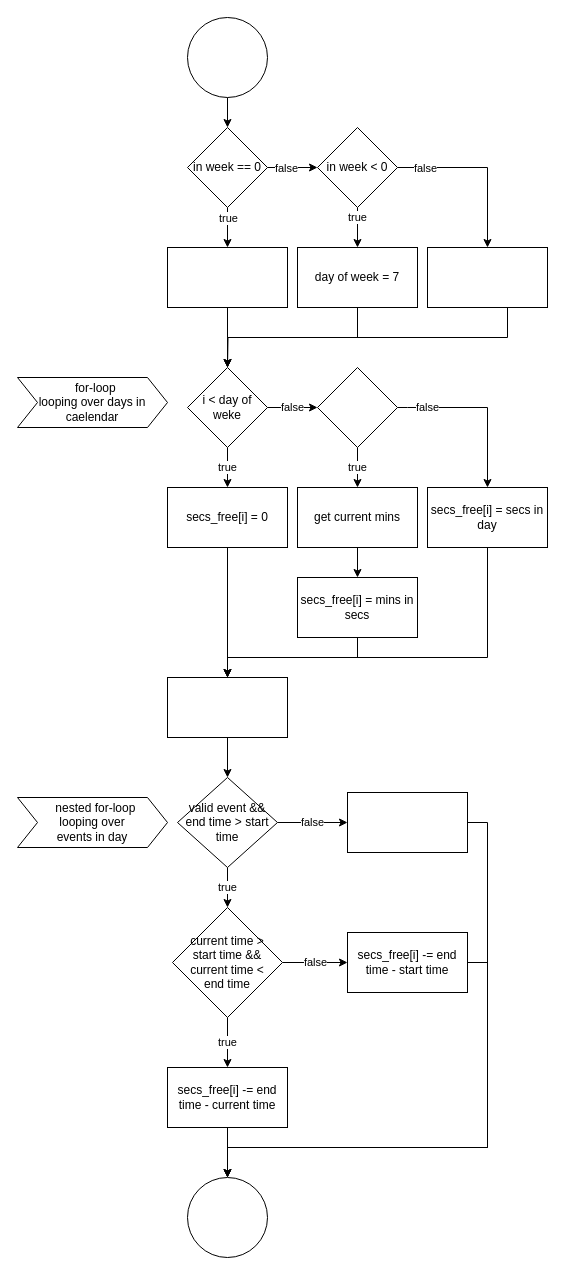
The diagram is 565 pixels wide and 1275 high, and some of its shapes have lost their labels. Each missing label, with the centre of its shape:
"day of week = 0" goes at point 487,277.
"end" goes at point 227,1217.
"get day of week" goes at point 227,277.
"in week == 0 i == day of week" goes at point 357,407.
"secs_non_event -= end time - start time" goes at point 407,822.
"secs_non_event[i] = secs_in_day" goes at point 227,707.
"start" goes at point 227,57.
